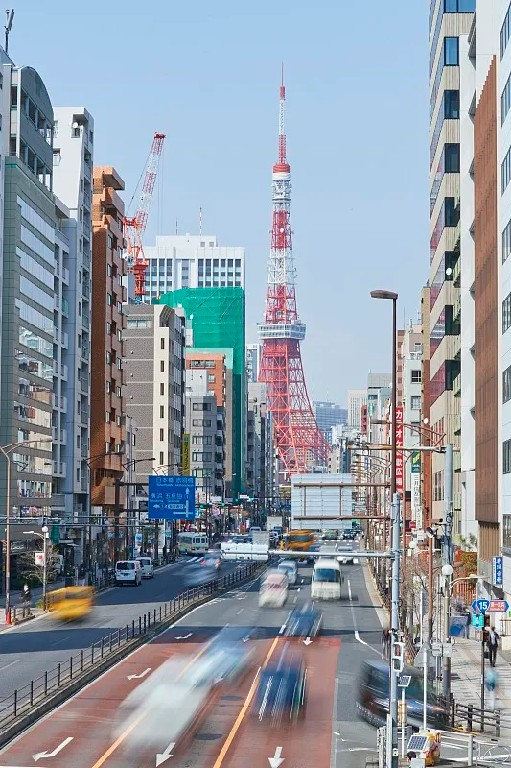Tokyo: (259, 59, 336, 474)
